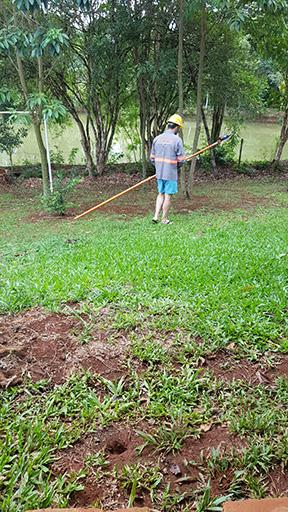Capacete: (165, 113, 185, 133)
Detector_Tensao_Contato: (216, 131, 233, 142)
Vara_Manobra: (73, 140, 218, 219)
